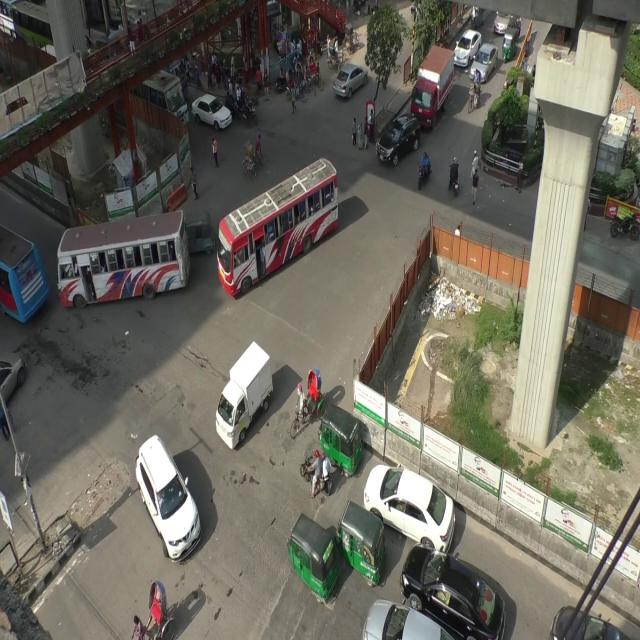cng: (286, 518, 340, 599), (339, 502, 388, 587), (313, 403, 362, 478), (502, 28, 520, 66)
rikshaw: (132, 580, 175, 640), (289, 368, 323, 435), (237, 133, 265, 176), (285, 67, 305, 106), (323, 38, 348, 69), (294, 62, 315, 93), (468, 67, 482, 113), (308, 54, 324, 92), (340, 24, 361, 51)
